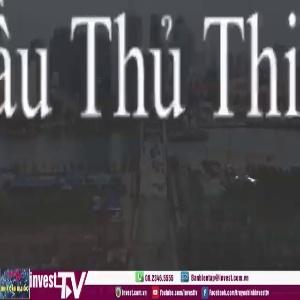drone: (209, 146, 277, 214)
